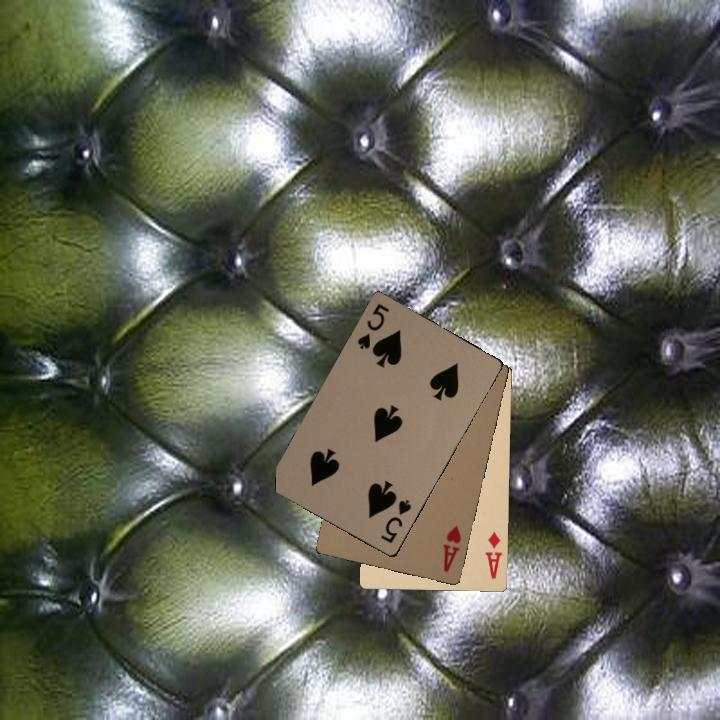5s: (353, 299, 392, 352), (377, 496, 414, 546)
Ad: (481, 529, 504, 581)
Ah: (439, 521, 463, 575)
